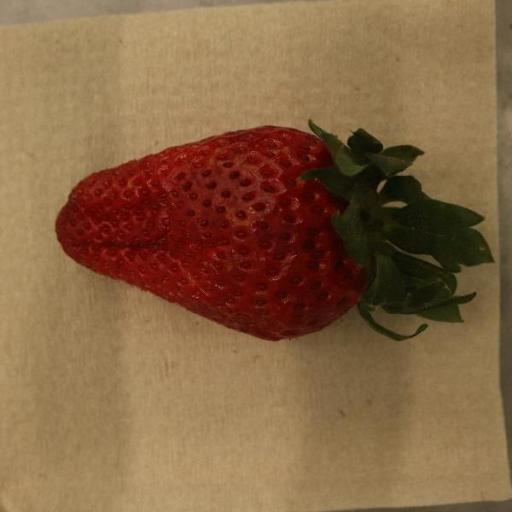Strawberry: (53, 126, 494, 344)
